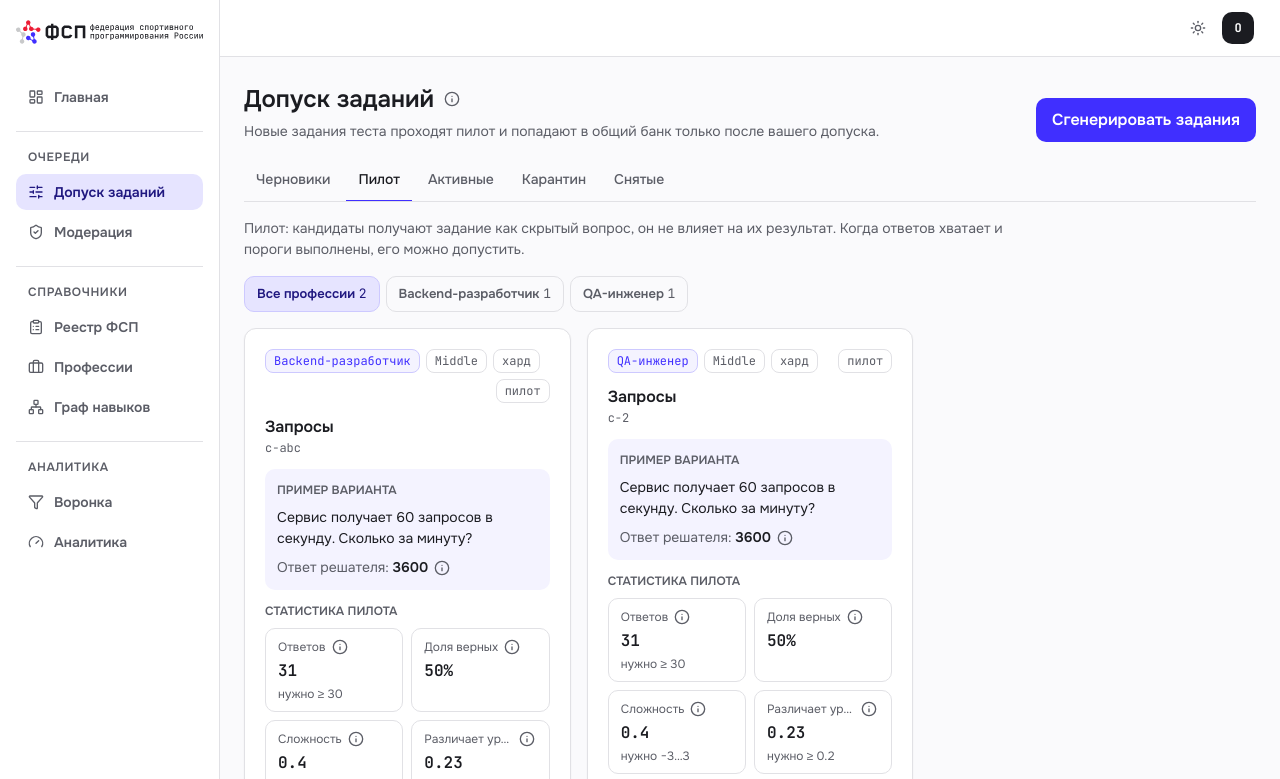
it: K2 допуск заданий › фильтр по профессии оставляет только её карточки
The image size is (1280, 779).
Click the button with test id "admission-prof-qa" at (629, 294), box [570,276,688,312]
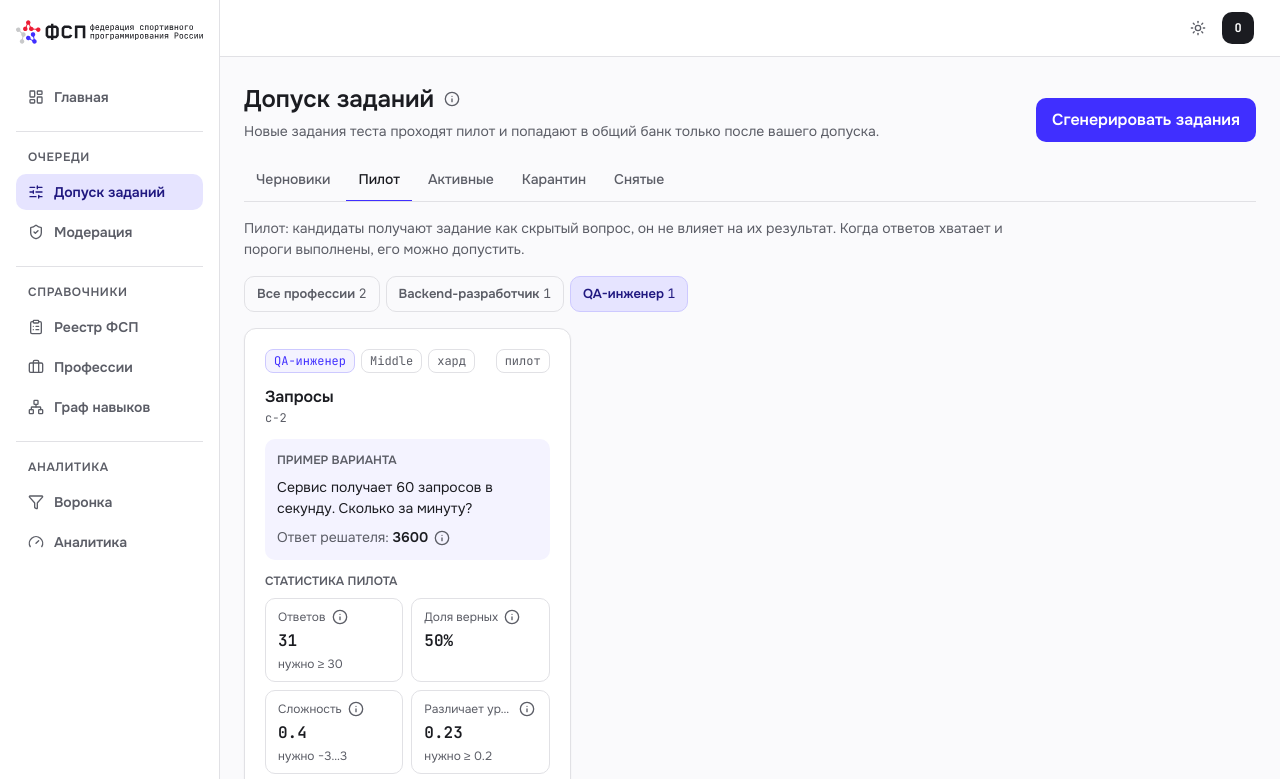
Click the button with test id "admission-prof-all" at (312, 294), box [244,276,380,312]
(page scrolled)
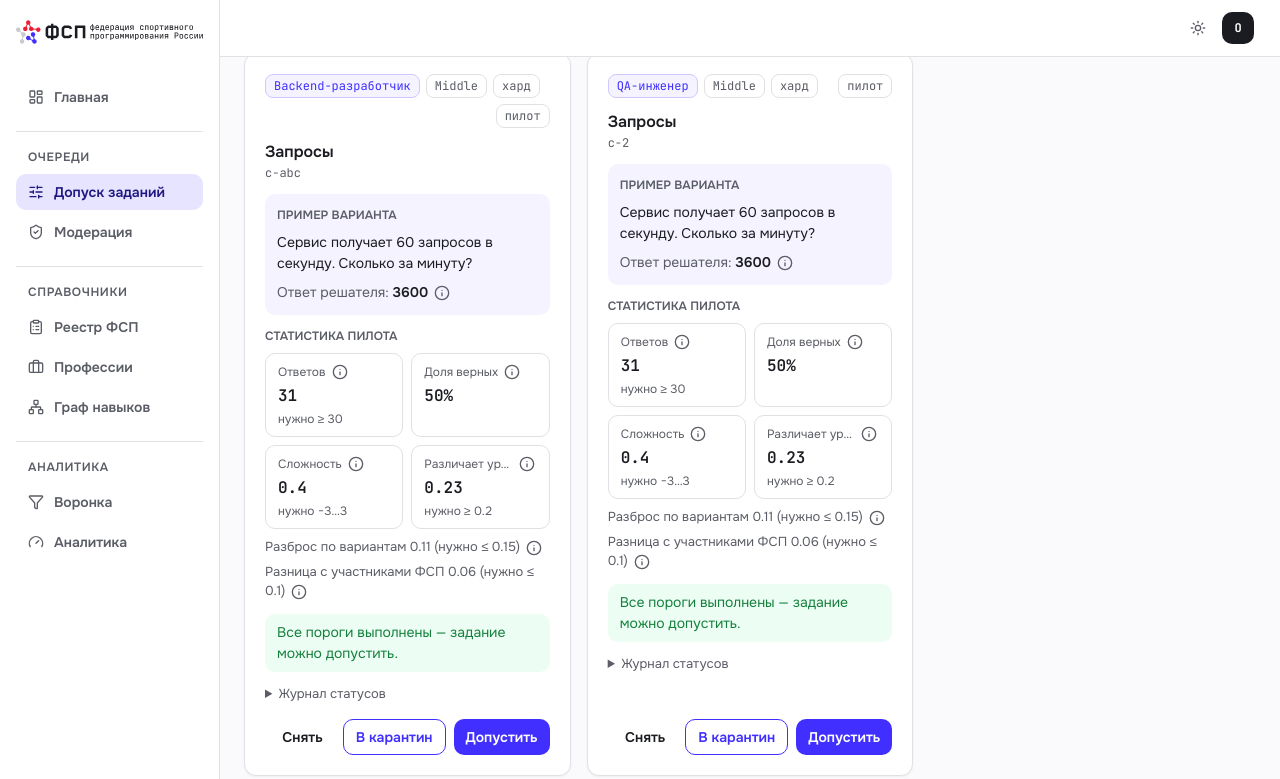
Check: the element with test id "admission-card-f1" is shown, box [244,53,571,776]
